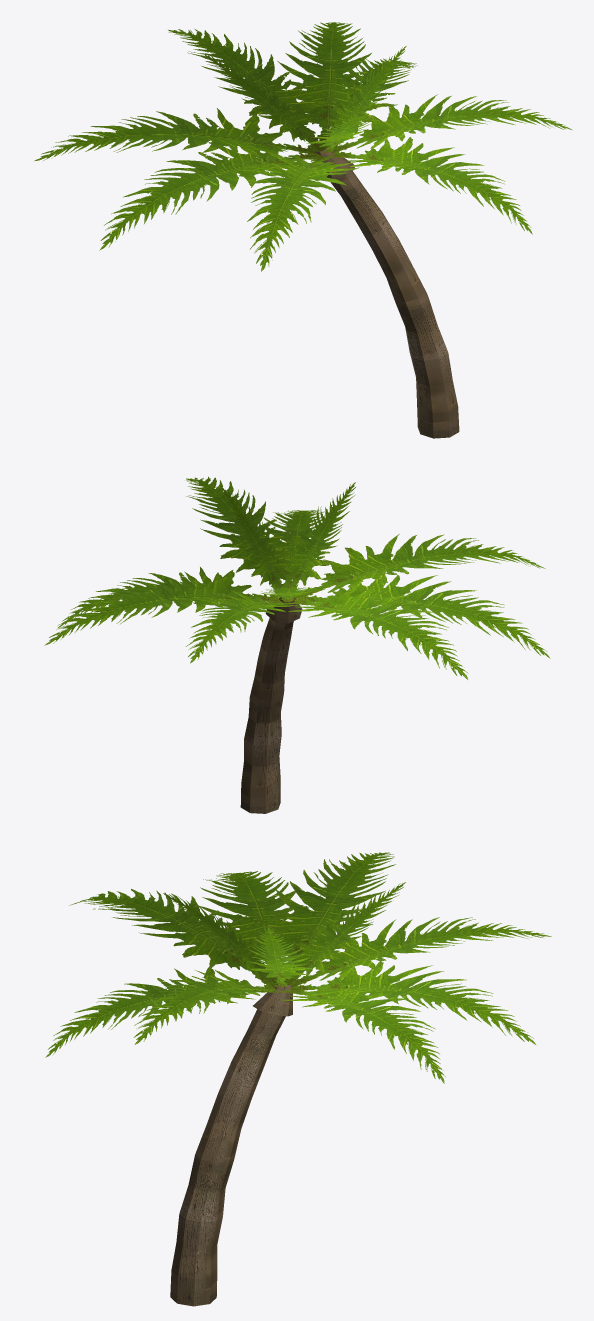
File: palmtree2.gltf
3 renders of one model, top to bottom at view 1: azimuth 30°, elevation 25°; view 2: azimuth 150°, elevation 25°; view 3: azimuth 270°, elevation 25°, orthographic. The views are drawn at different scales.
Visible parts, largest first — view 1: palmtree2_new; view 2: palmtree2_new; view 3: palmtree2_new.
Boxes of the visible parts, x1=… form: palmtree2_new: x1=34, y1=22, x2=572, y2=438; palmtree2_new: x1=44, y1=476, x2=550, y2=813; palmtree2_new: x1=45, y1=852, x2=551, y2=1306.
Bounding box in the file's own units: 46.4 × 33.7 × 46.2.
2 materials, 2 textured.
